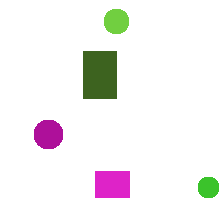circle: (34, 120, 62, 148), (104, 9, 128, 33), (198, 177, 218, 197)
rectangle: (83, 51, 116, 98), (95, 171, 129, 197)
